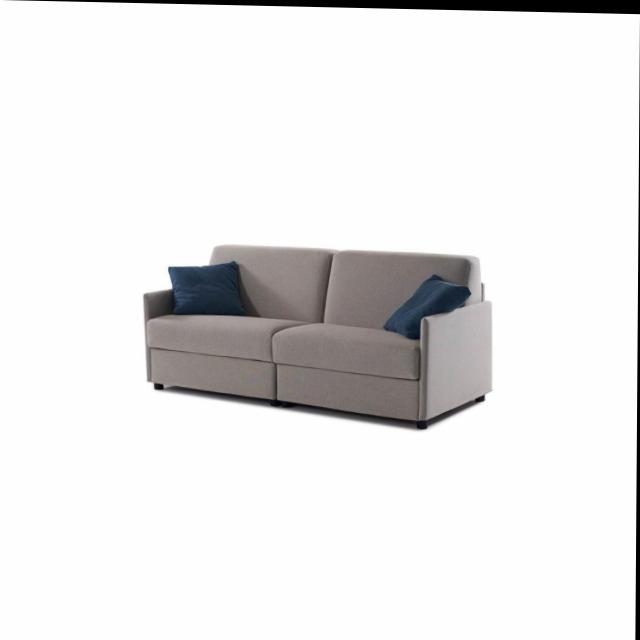Sofa: (144, 239, 496, 430)
